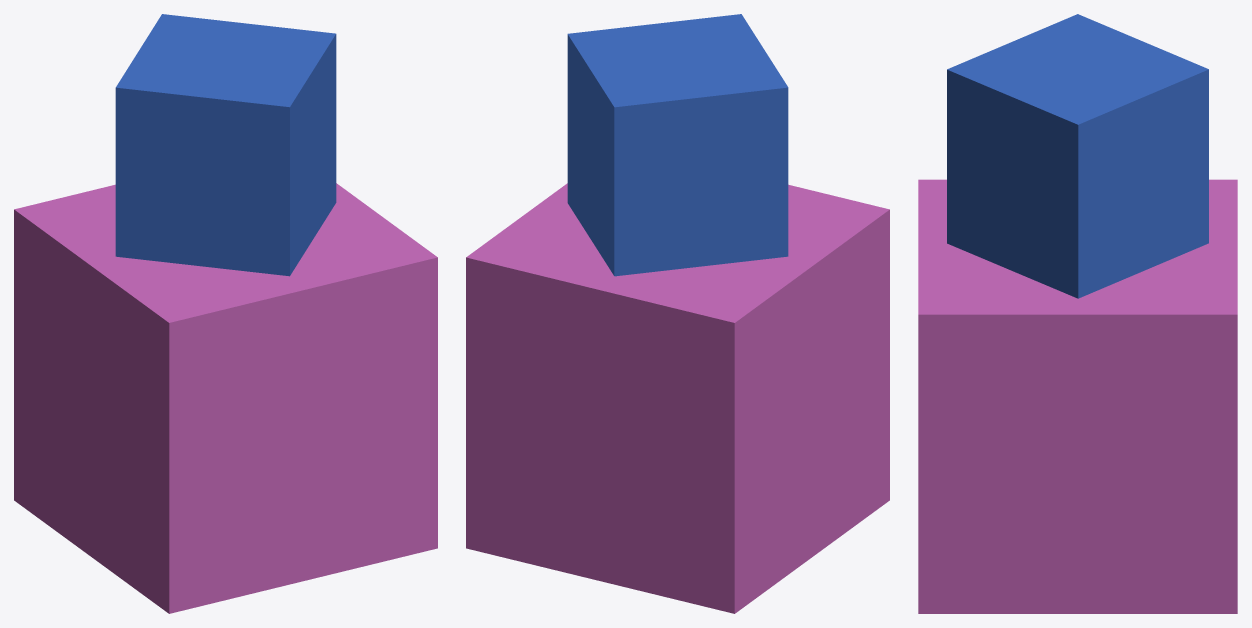
3 views of the same model, side by side, from view 1: azimuth 30°, elevation 25°; view 2: azimuth 150°, elevation 25°; view 3: azimuth 270°, elevation 25° (orthographic). The views are drawn at different scales.
Visible parts, largest first — view 1: Cube, Cube.1; view 2: Cube, Cube.1; view 3: Cube, Cube.1.
Boxes of the visible parts, x1,y1,x2,y2 form: Cube: (14,183,437,613); Cube.1: (115,14,336,276); Cube: (466,183,889,613); Cube.1: (567,14,788,276); Cube: (918,179,1237,613); Cube.1: (947,14,1208,298).
Bounding box in the file's own units: 200 × 330 × 200.
